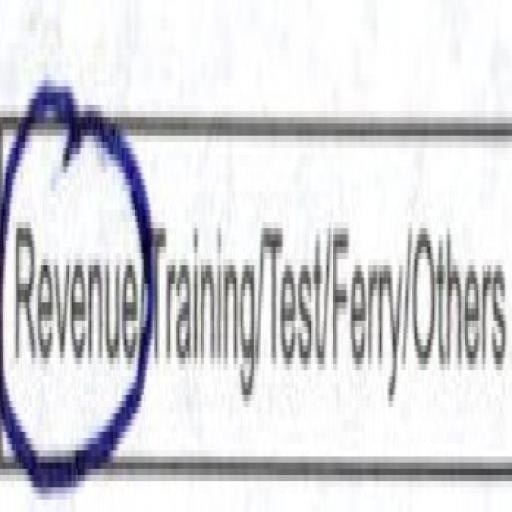check: (0, 31, 148, 506)
